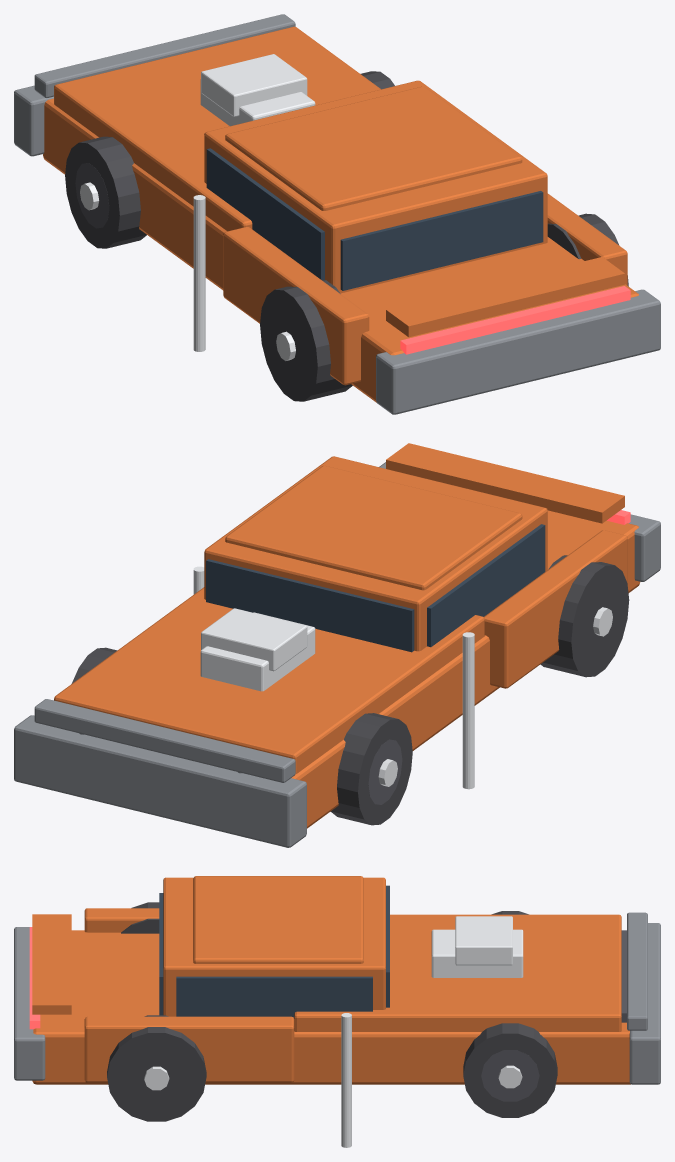
File: road_crusher.glb
3 views of the same model, one above another, from view 1: azimuth 30°, elevation 25°; view 2: azimuth 150°, elevation 25°; view 3: azimuth 270°, elevation 25° (orthographic). The views are drawn at different scales.
Parts seen in each view (by area): view 1: Roof_Top, Hood_Section, Rear_Bumper, Chassis_Base, Cabin_Mid, Window_Rear, Fender_Rear_R, Rear_Ducktail, W_RR_tire, Window_Side_R, W_FR_tire, Front_Bullbar_Top (+8 smaller); view 2: Hood_Section, Roof_Top, Front_Bullbar_Main, Cabin_Mid, Chassis_Base, Windshield_Front, Fender_Rear_R, Rear_Ducktail, Front_Bullbar_Top, W_RR_tire, Window_Side_R, W_FR_tire (+5 smaller); view 3: Hood_Section, Chassis_Base, Roof_Top, Fender_Rear_L, Cabin_Mid, Window_Side_L, W_RL_tire, W_FL_tire, Rear_Ducktail, Rear_Bumper, Front_Bullbar_Main, Blower_Scoop (+12 smaller).
Part boxes in pixels (x1,y1,x2,y2): Roof_Top: (225, 86, 522, 210); Hood_Section: (54, 26, 380, 231); Rear_Bumper: (376, 289, 660, 414); Chassis_Base: (43, 98, 638, 402); Cabin_Mid: (204, 80, 547, 293); Window_Rear: (340, 191, 543, 290); Fender_Rear_R: (223, 227, 369, 385); Rear_Ducktail: (386, 257, 624, 337); W_RR_tire: (260, 279, 352, 401); Window_Side_R: (206, 148, 324, 279); W_FR_tire: (65, 136, 146, 248); Front_Bullbar_Top: (34, 14, 295, 98); Hood_Section: (54, 587, 484, 774); Roof_Top: (225, 465, 522, 590); Front_Bullbar_Main: (14, 715, 306, 847); Cabin_Mid: (204, 456, 547, 651); Chassis_Base: (291, 510, 640, 828); Windshield_Front: (206, 559, 414, 652); Fender_Rear_R: (484, 530, 627, 688); Rear_Ducktail: (386, 443, 624, 523); Front_Bullbar_Top: (34, 699, 295, 782); W_RR_tire: (540, 555, 629, 677); Window_Side_R: (427, 524, 545, 647); W_FR_tire: (330, 713, 412, 825); Hood_Section: (294, 914, 621, 1031); Chassis_Base: (32, 930, 630, 1084); Roof_Top: (193, 876, 363, 963); Fender_Rear_L: (84, 1016, 294, 1082); Cabin_Mid: (163, 877, 385, 1016); Window_Side_L: (176, 976, 372, 1018); W_RL_tire: (107, 1015, 206, 1121); W_FL_tire: (463, 1023, 557, 1117); Rear_Ducktail: (32, 914, 71, 1014); Rear_Bumper: (14, 927, 45, 1080); Front_Bullbar_Main: (629, 923, 660, 1084); Blower_Scoop: (455, 916, 512, 965).
Size of the model in its own units: 2.44 by 1.45 by 4.94.
